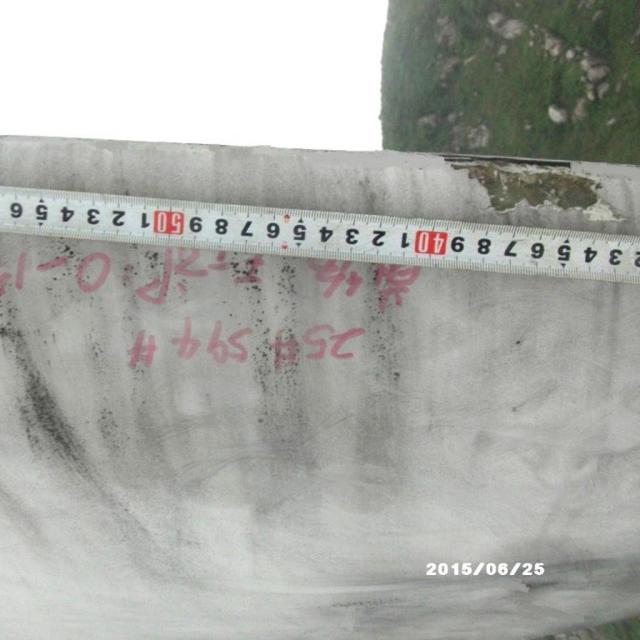surface_peeling: (436, 152, 616, 222)
